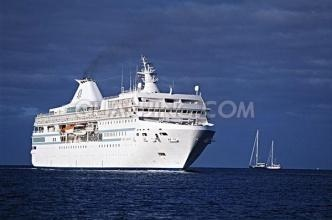fanchuan: (245, 129, 266, 169), (267, 142, 285, 170)
youlun: (30, 60, 212, 168)
